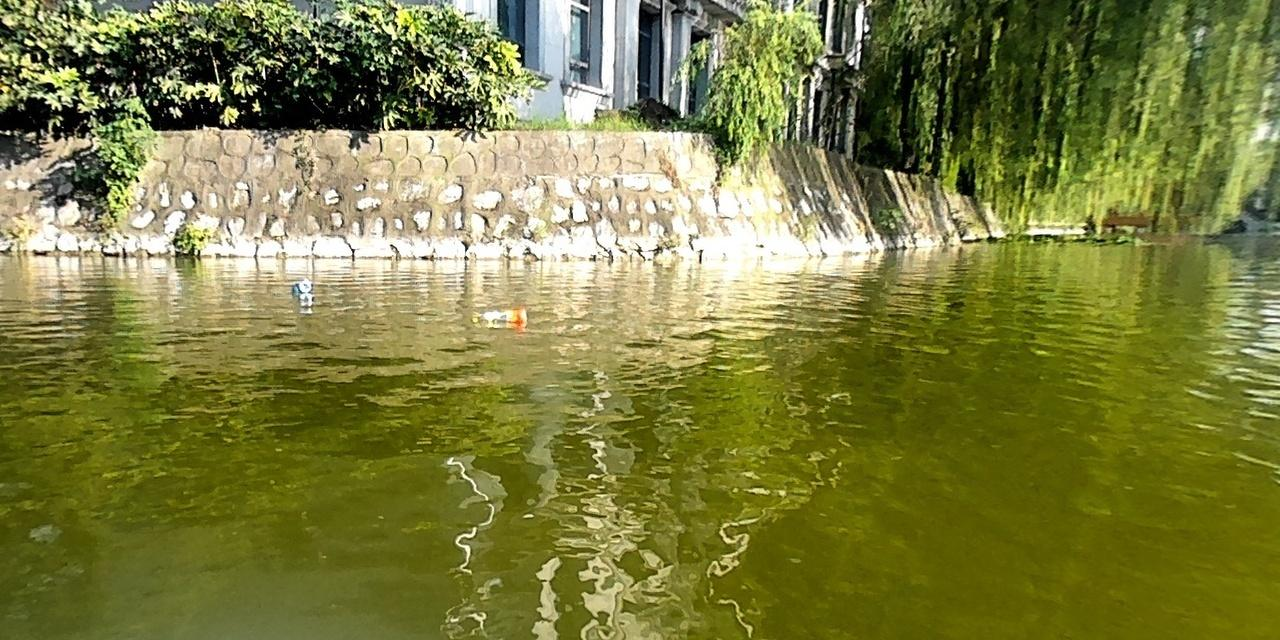bottle: (467, 305, 527, 329), (289, 274, 315, 296)
